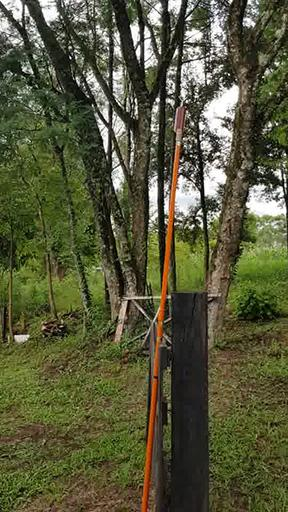Vara_Manobra: (142, 132, 183, 512)
